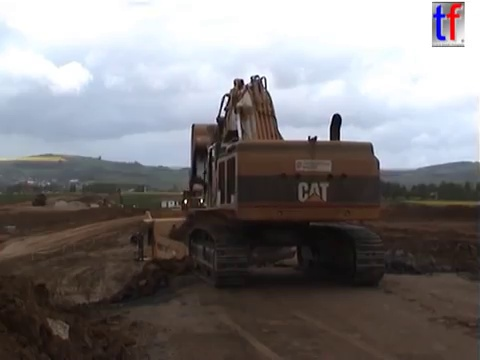excavator: (176, 71, 390, 290), (86, 194, 117, 212)
truck: (128, 208, 302, 289), (180, 188, 206, 212), (31, 191, 49, 208)
